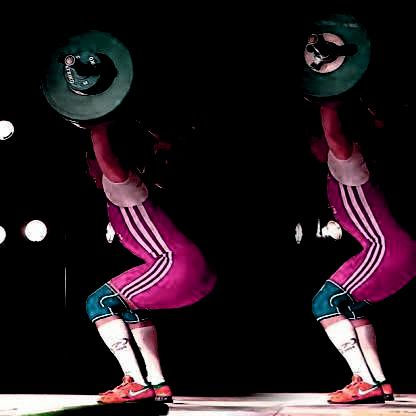Barbell: (302, 31, 320, 49), (61, 54, 76, 70)
